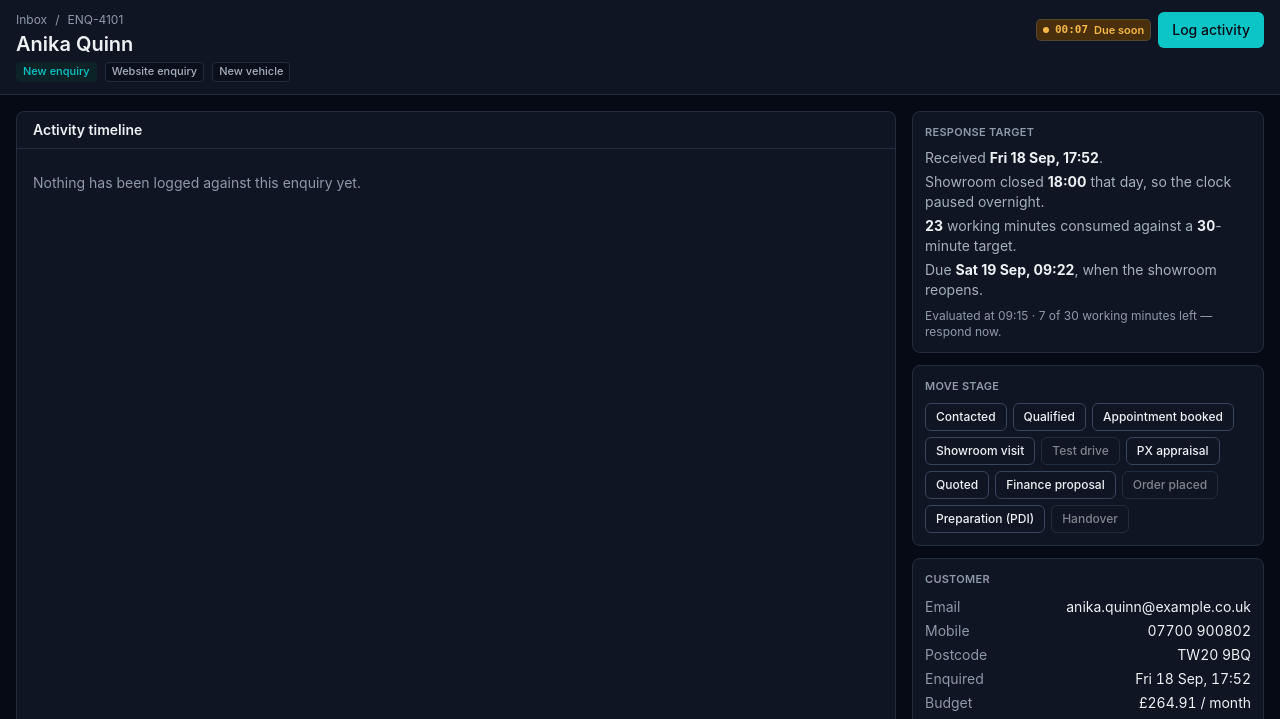
Test: LeadDetailPage › logging an activity › offers an outcome only for activity types that have one
Click the button with test id "log-activity-button" at (1211, 30), box [1158,12,1264,48]
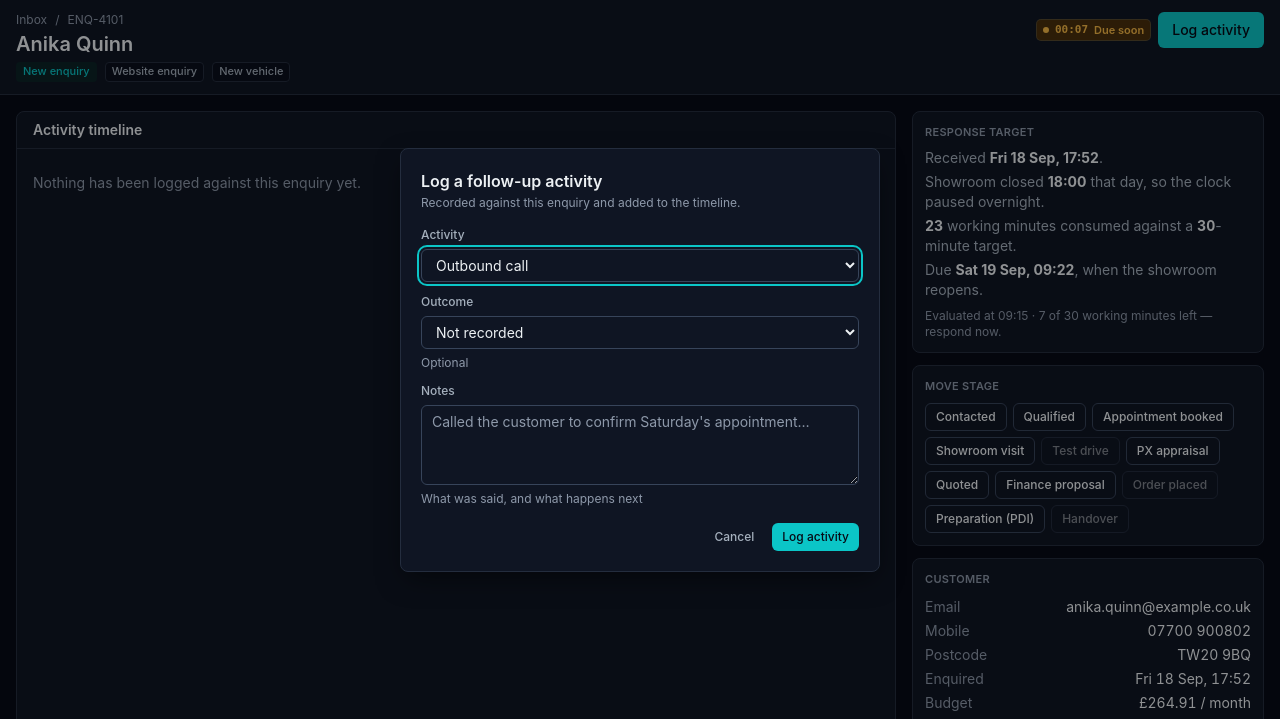
// A call has an outcome.
Select "Outbound call" in the dropdown with test id "activity-type" at (640, 266), box [421,249,859,282]
Check: the dropdown with test id "activity-outcome" is shown, box [421,316,859,349]
// An email does not.
Select "Email sent" in the dropdown with test id "activity-type" at (640, 266), box [421,249,859,282]
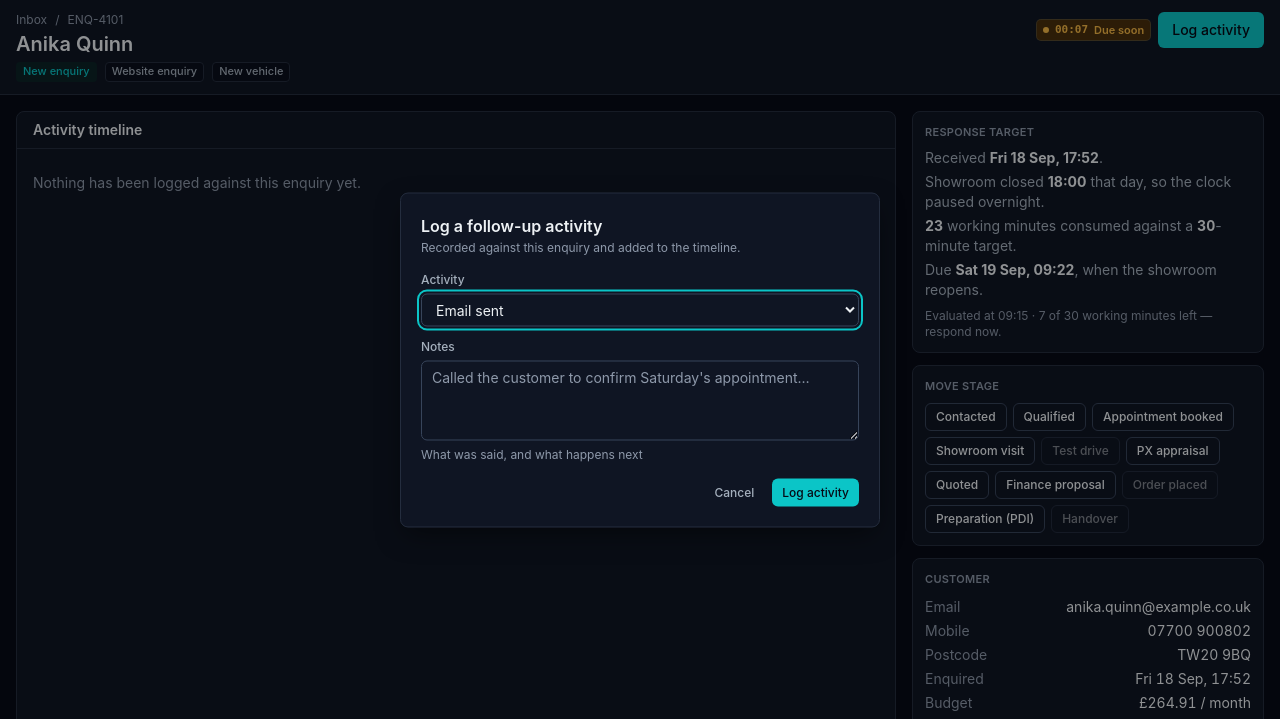
Check: the dropdown with test id "activity-outcome" is gone
